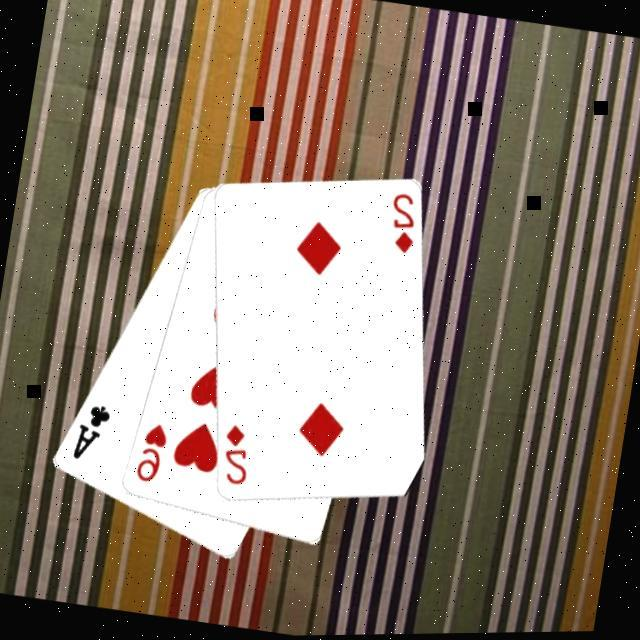2D: (382, 188, 425, 258), (216, 420, 258, 489)
9H: (131, 417, 172, 486)
AC: (69, 397, 116, 466)
